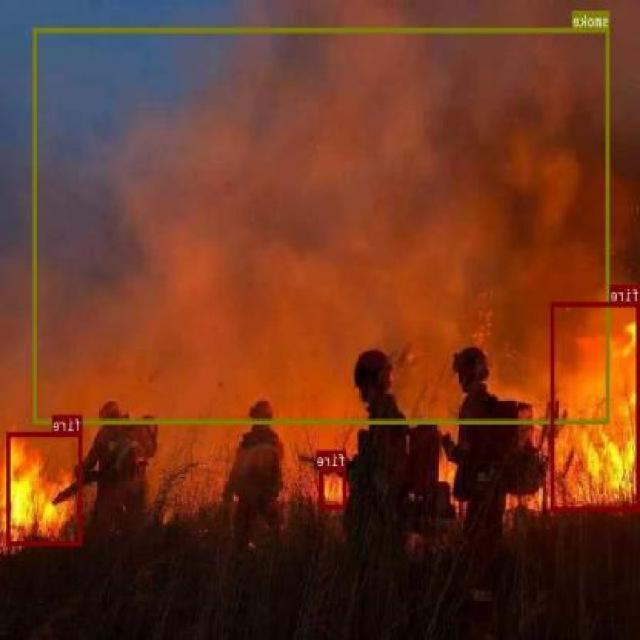Fire: (552, 302, 640, 510), (8, 430, 84, 544), (321, 466, 347, 508)
Smoke: (33, 26, 610, 423)
